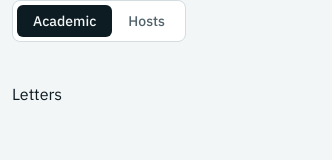
it: Tabs › switches on click
This screenshot has width=332, height=160.
What coordinates should you click on to do the following:
click the tab "Hosts"
I would click on:
 (147, 21)
Its box is x1=112 y1=5 x2=181 y2=37.
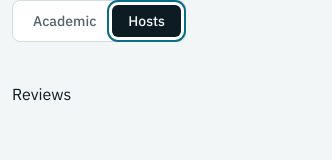
expect the panel named "Hosts" is shown: met, box x1=12 y1=84 x2=71 y2=104
expect the text "Letters" is gone: met
